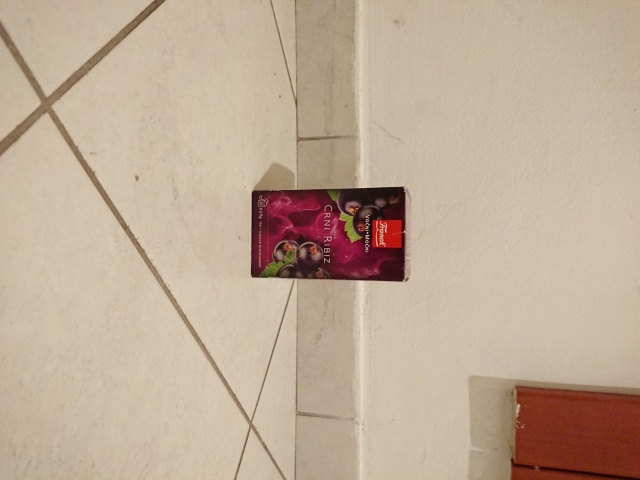Franck Black Currant Tea 60g: (247, 184, 415, 285)
